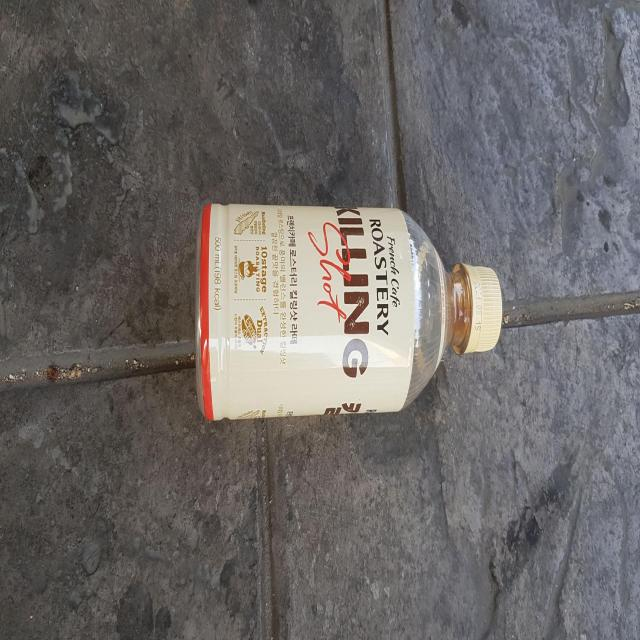plastic: (195, 203, 503, 420)
